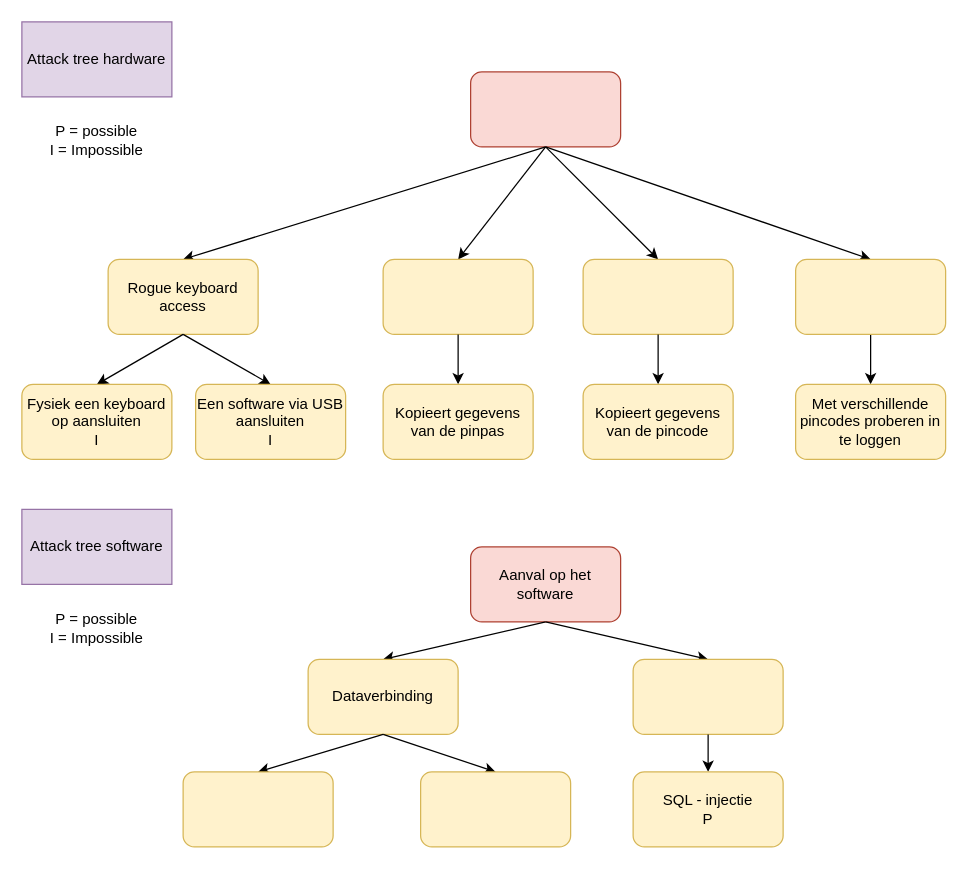
The diagram is 968 pixels wide and 869 high, and some of its shapes have lost their labels. The shapes that lost their labels are listed below. From the top down, each one's box as (x1, y1, x2, y2) in pixels, then its label:
(469, 71, 621, 147): Aanval op het hardware
(382, 258, 533, 334): Skimming
(582, 258, 733, 334): Keylogging
(794, 258, 946, 334): Brute force
(632, 658, 783, 734): SQL
